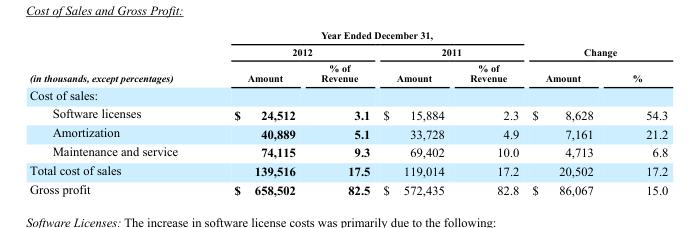table: (28, 29, 667, 197)
table column: (28, 29, 205, 197), (524, 29, 643, 197), (205, 29, 307, 197), (375, 29, 456, 197), (307, 29, 375, 197), (456, 29, 524, 197), (643, 29, 667, 197)
table column header: (28, 29, 667, 85)
table projected row header: (28, 85, 667, 103)
table row: (28, 59, 667, 85), (28, 103, 667, 123), (28, 123, 667, 142), (28, 142, 667, 161), (28, 161, 667, 180), (28, 85, 667, 103), (28, 180, 667, 197), (28, 43, 667, 59), (28, 29, 667, 43)
table spanning cell: (28, 29, 205, 85), (205, 29, 524, 43), (524, 29, 667, 59), (205, 43, 375, 59), (375, 43, 524, 59)
